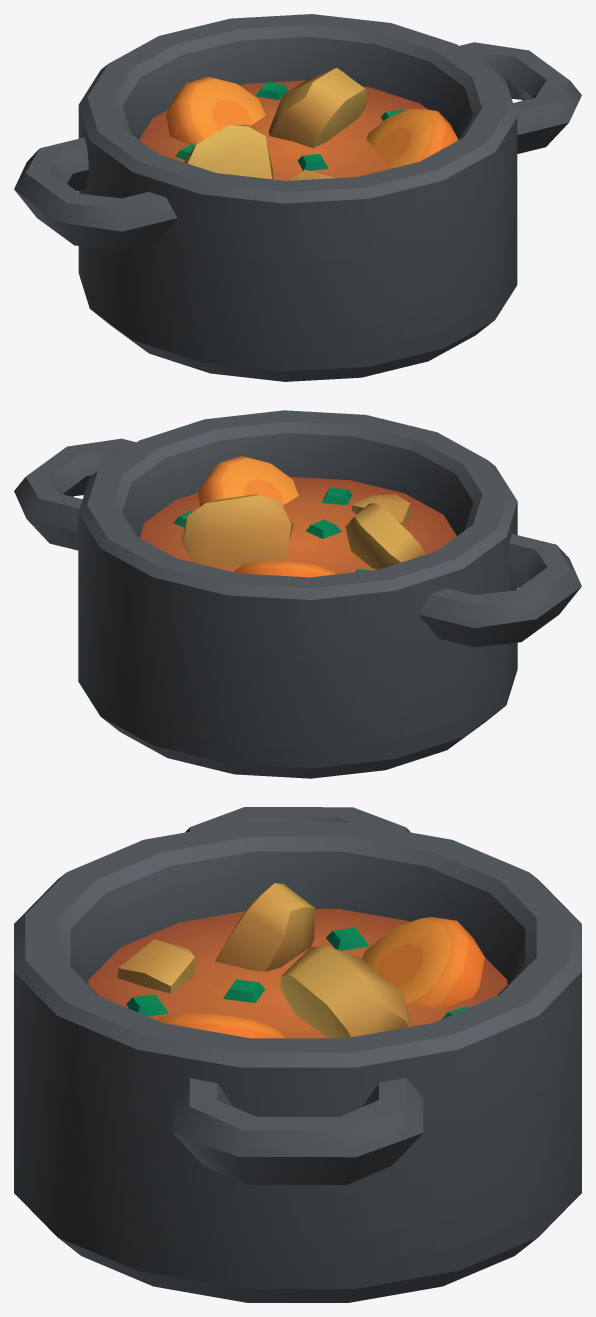
File: kaykit-restaurant-bits-pot-b-stew.glb
The picture shows the model from 3 angles, top to bottom: view 1: azimuth 30°, elevation 25°; view 2: azimuth 150°, elevation 25°; view 3: azimuth 270°, elevation 25°; orthographic projection. The views are drawn at different scales.
Parts seen in each view (by area): view 1: pot_B_stew; view 2: pot_B_stew; view 3: pot_B_stew.
Part boxes in pixels (box(x1,y1,x2,y2)): pot_B_stew: box(14, 14, 581, 381); pot_B_stew: box(14, 410, 581, 778); pot_B_stew: box(14, 807, 581, 1302).
Bounding box in the file's own units: 1.4 × 0.516 × 1.
1 material, 1 textured.
